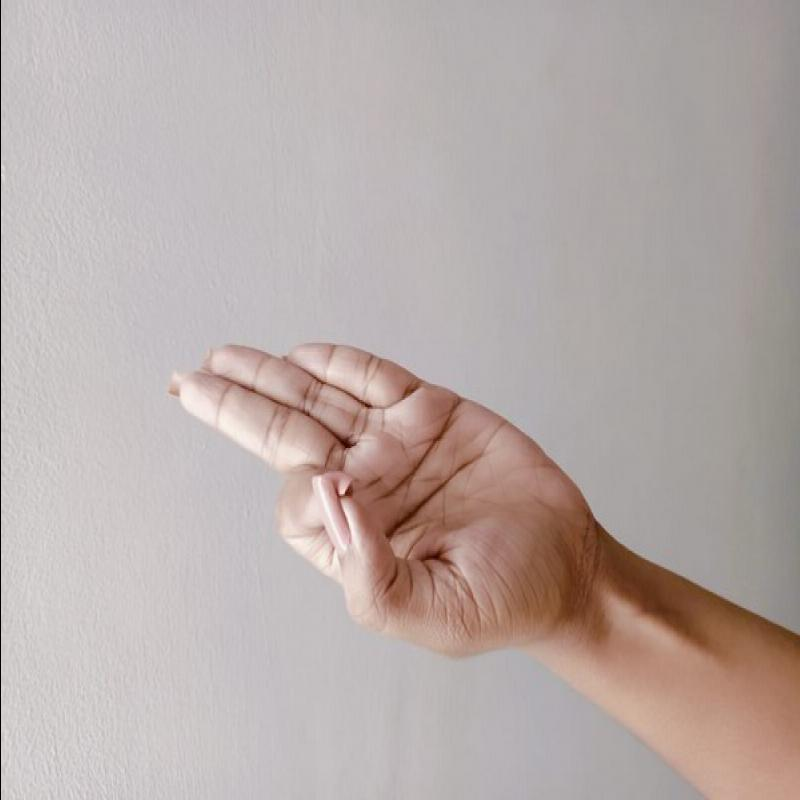Mudraakhyam: (154, 317, 599, 666)
